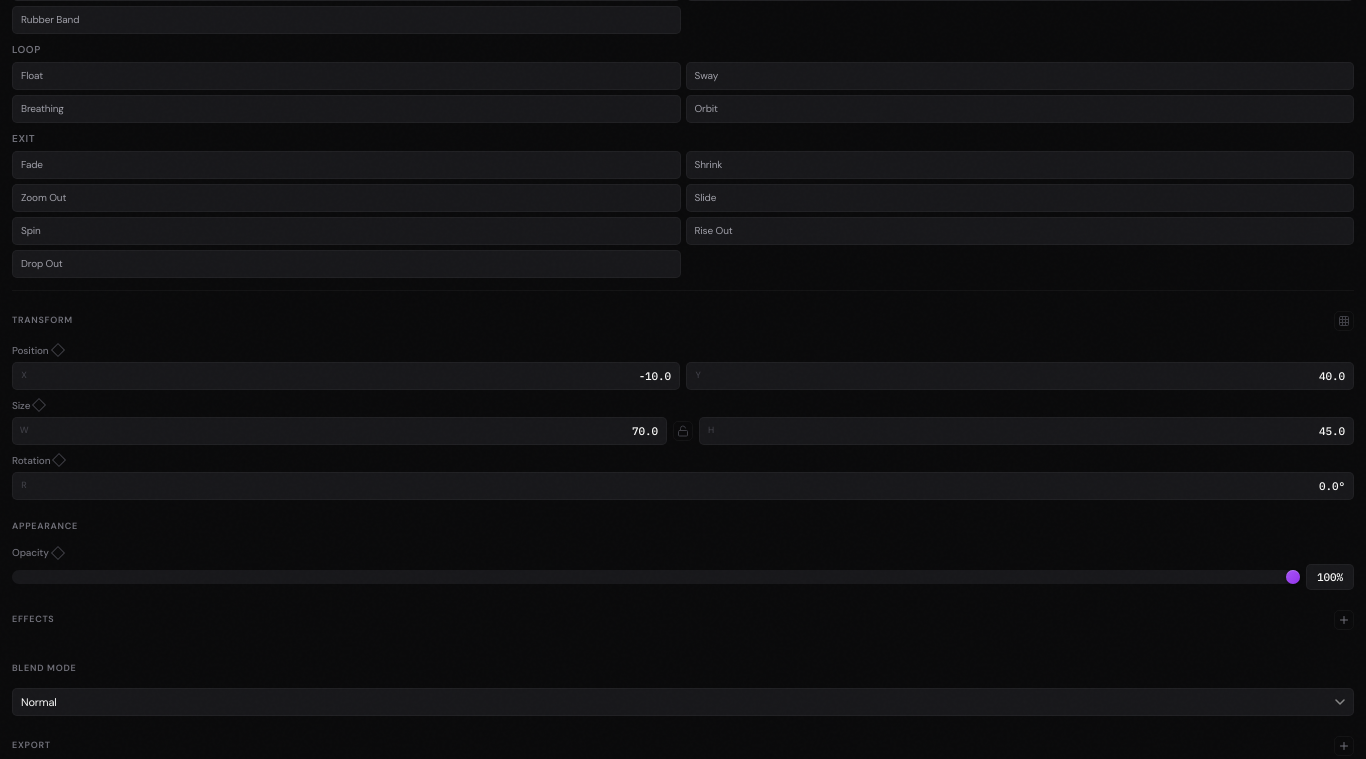
Test: a group’s and a symbol instance’s Position › moves a group to exactly where X and Y are typed
(page scrolled)
Replace the text in the field labelled "Position" with "100" at (355, 376), box [31,362,679,388]
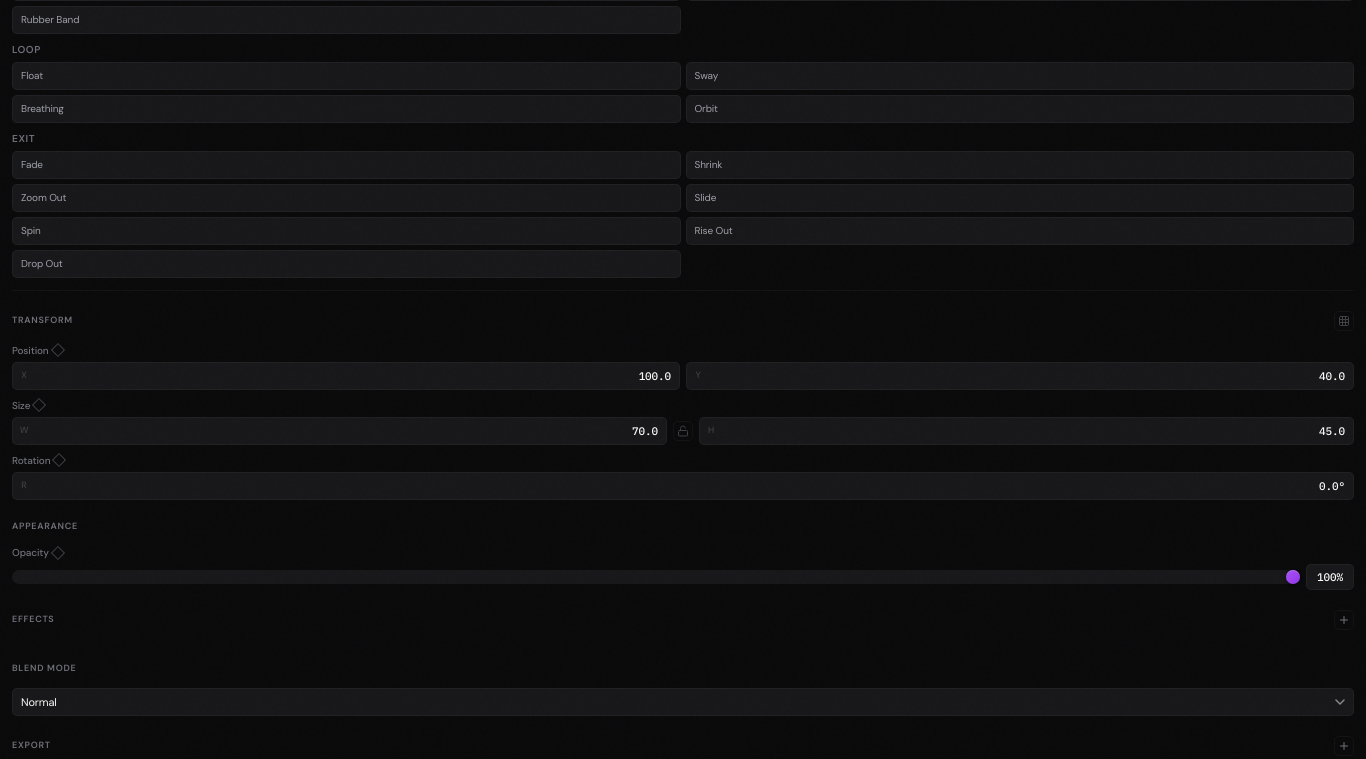
Replace the text in the 2nd field with "-20" at (1029, 376), box [705,362,1353,388]
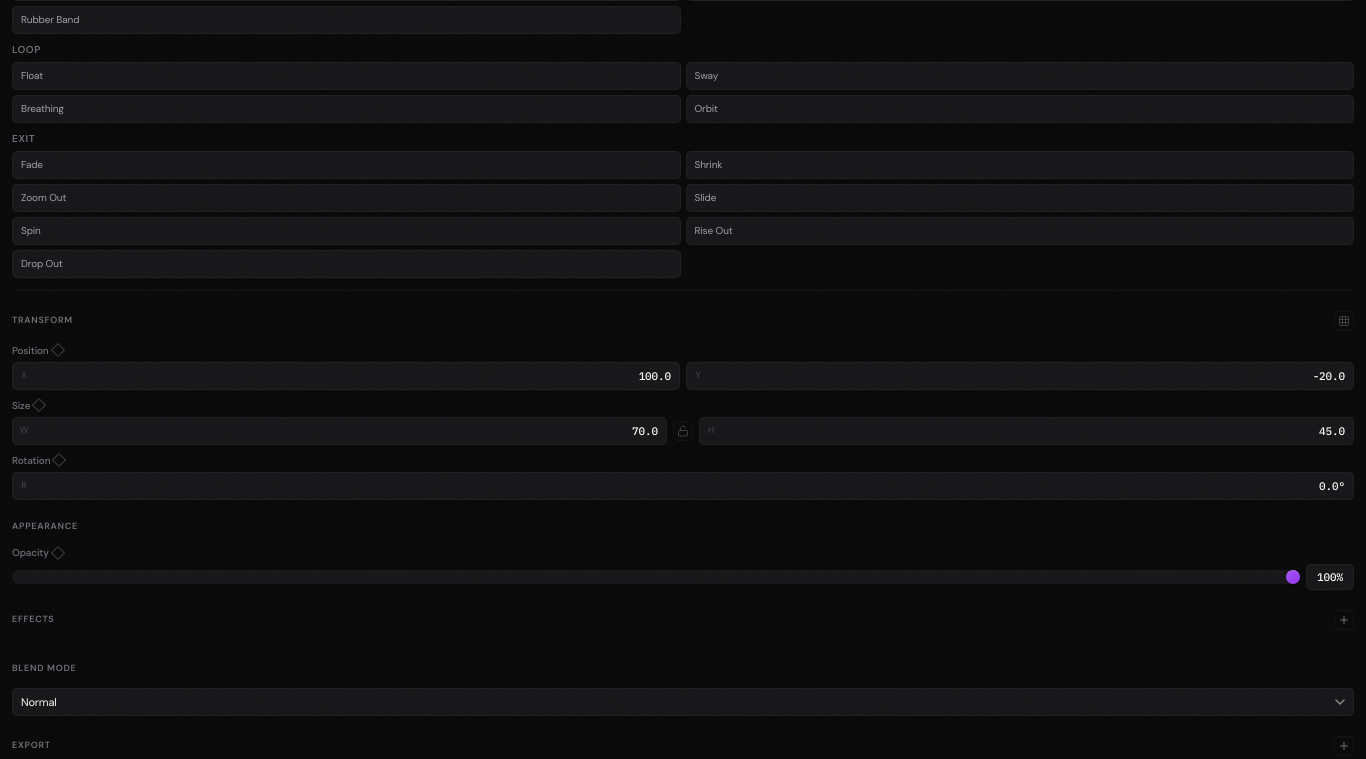
Now the field labelled "Position" holds "100.0", box [31,362,679,388]
Now the 2nd field holds "-20.0", box [705,362,1353,388]
